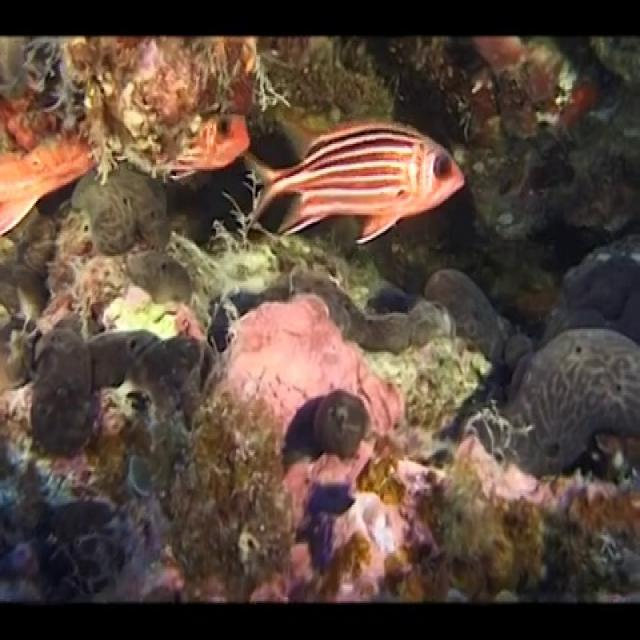Asker Baligi: (240, 116, 467, 247)
